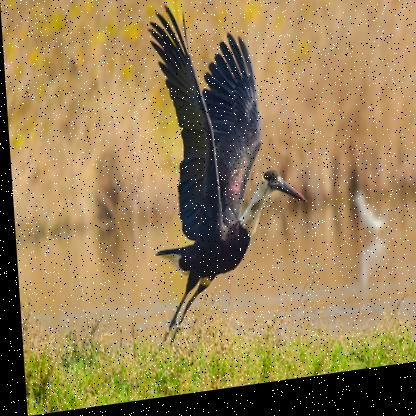Burung: (135, 2, 314, 358)
